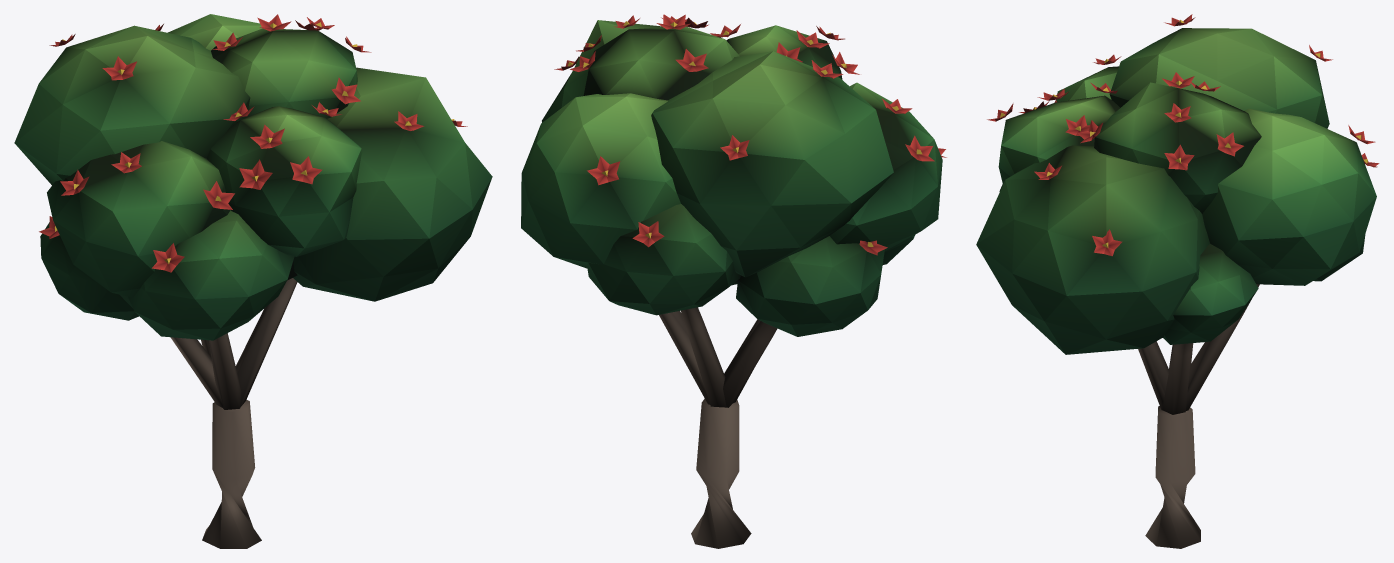
Rendered from tree-camellia.glb.
3 renders of one model, left to right at view 1: azimuth 30°, elevation 25°; view 2: azimuth 150°, elevation 25°; view 3: azimuth 270°, elevation 25°, orthographic. The views are drawn at different scales.
Parts seen in each view (by area): view 1: 1_leaves.010, 0_trunk.010; view 2: 1_leaves.010, 0_trunk.010; view 3: 1_leaves.010, 0_trunk.010.
Boxes of the visible parts, x1=… form: 1_leaves.010: x1=14, y1=14, x2=492, y2=340; 0_trunk.010: x1=170, y1=278, x2=297, y2=548; 1_leaves.010: x1=521, y1=14, x2=946, y2=336; 0_trunk.010: x1=659, y1=307, x2=777, y2=548; 1_leaves.010: x1=976, y1=14, x2=1379, y2=354; 0_trunk.010: x1=1138, y1=284, x2=1259, y2=548.
Bounding box in the file's own units: 3.1 × 3.78 × 2.89.
